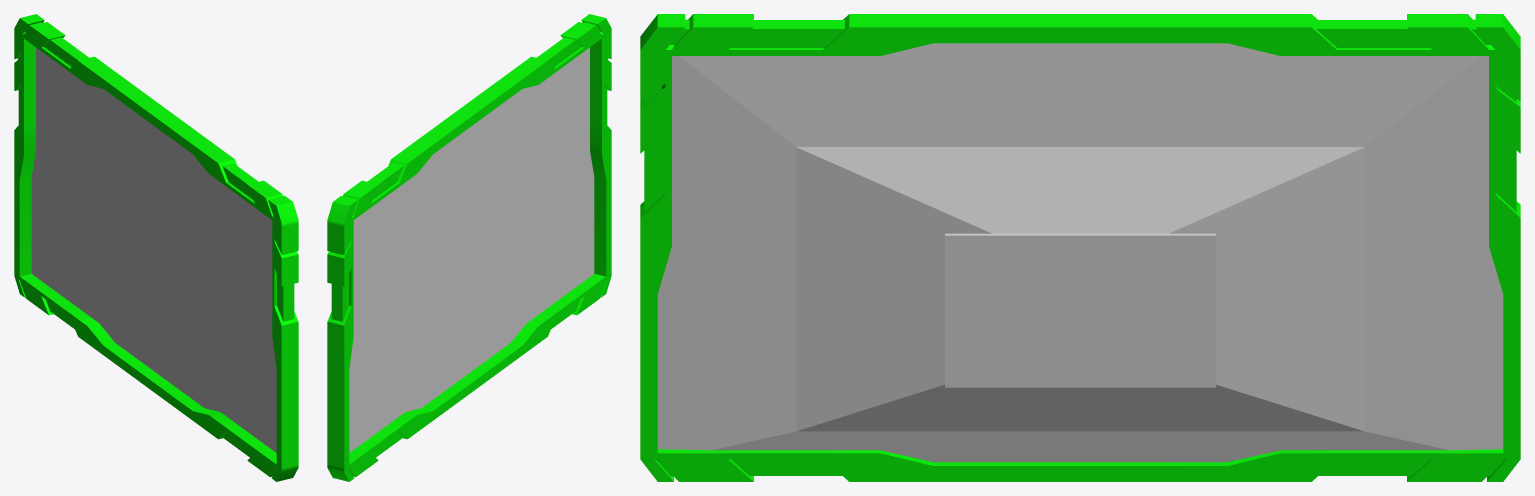
The model's file is Tele.fbx.
3 renders of one model, left to right at view 1: azimuth 30°, elevation 25°; view 2: azimuth 150°, elevation 25°; view 3: azimuth 270°, elevation 25°, orthographic. The views are drawn at different scales.
Parts seen in each view (by area): view 1: Ecran, Carde1; view 2: Ecran, Carde1; view 3: Ecran, Carde1.
Boxes of the visible parts, left/top/right/bottom form: Ecran: left=31, top=47, right=276, bottom=452; Carde1: left=14, top=14, right=298, bottom=481; Ecran: left=349, top=47, right=594, bottom=452; Carde1: left=327, top=14, right=611, bottom=481; Ecran: left=657, top=43, right=1503, bottom=462; Carde1: left=640, top=14, right=1520, bottom=481.
Size of the model in its own units: 1.12 by 6.9 by 12.11.
